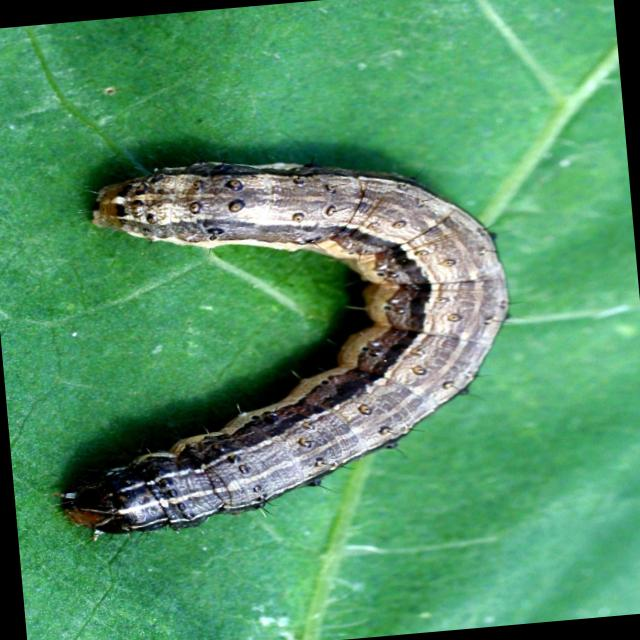Armyworm: (11, 118, 549, 547)
